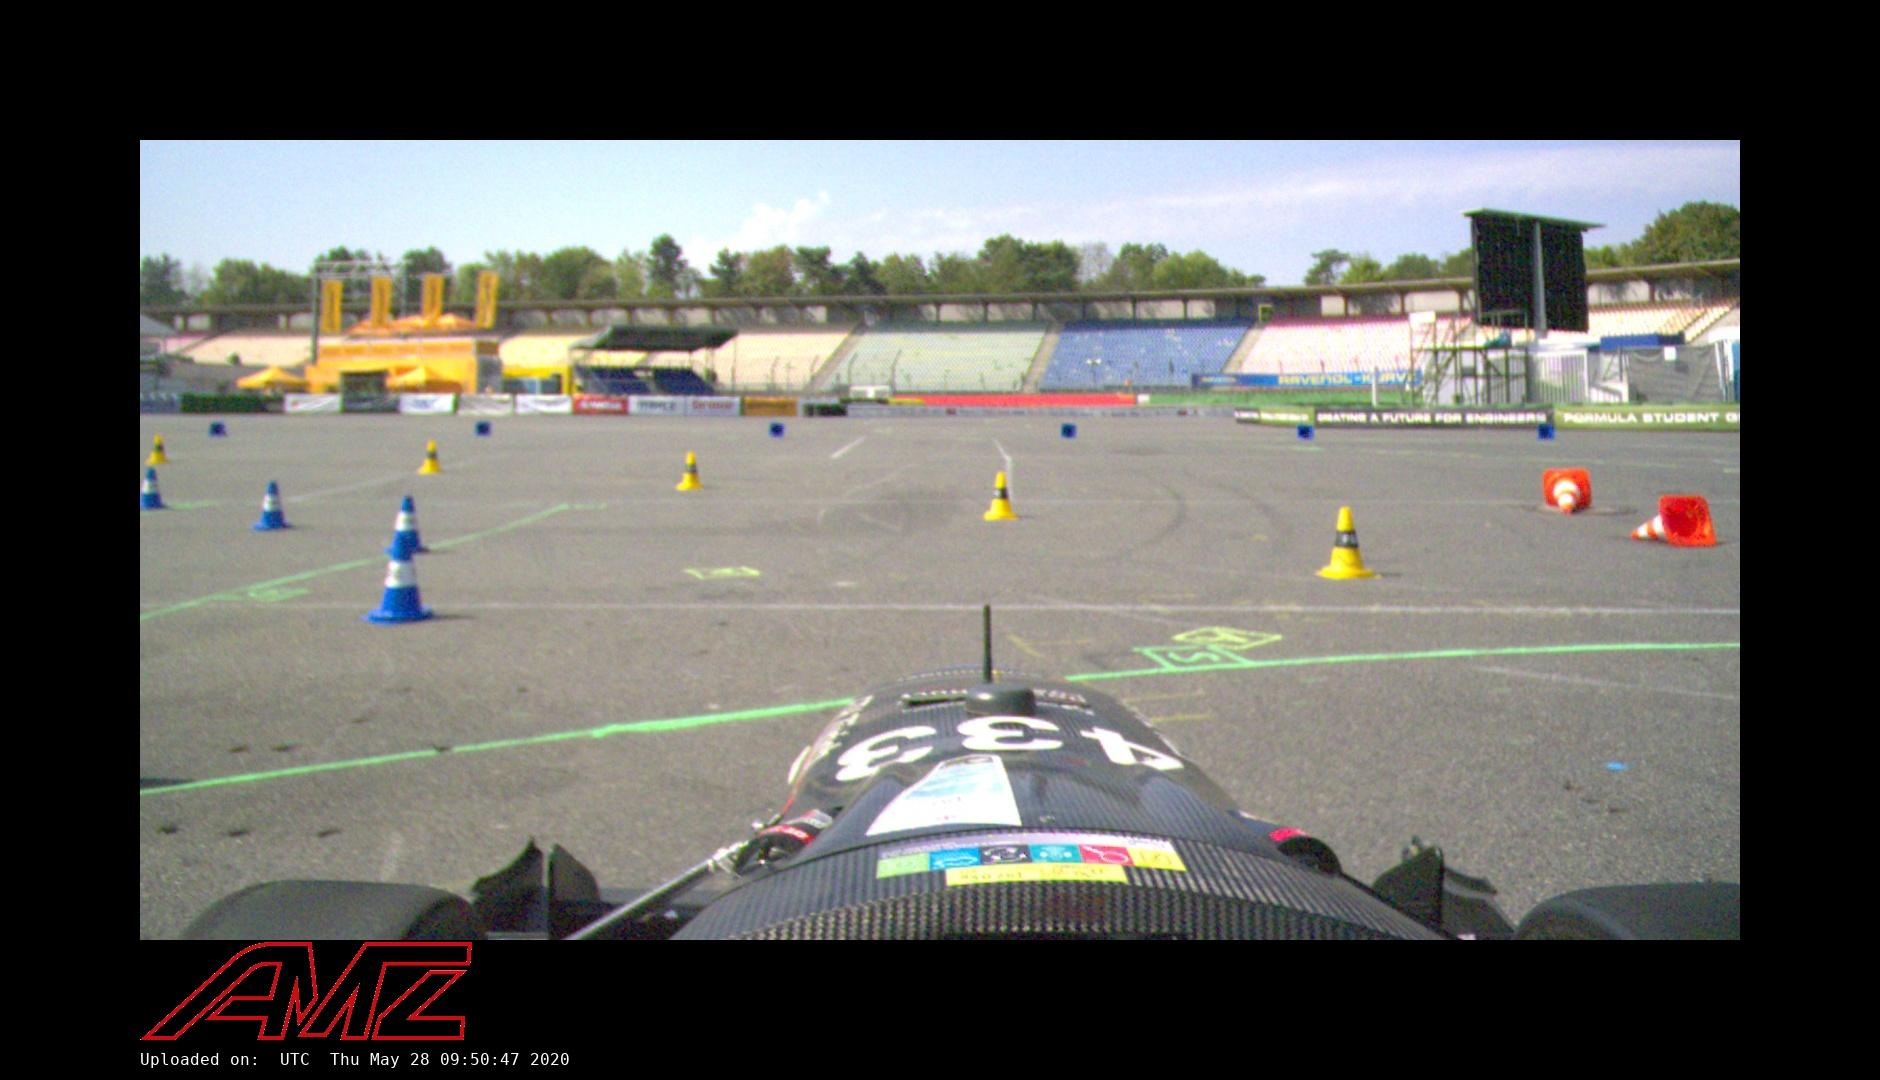blue_cone: (358, 532, 436, 627), (382, 495, 431, 556), (249, 479, 292, 531), (139, 466, 168, 512)
orange_cone: (1630, 493, 1719, 548), (1540, 468, 1595, 517)
yellow_cone: (1314, 506, 1382, 581), (983, 472, 1019, 521), (675, 451, 704, 491), (417, 439, 445, 475), (145, 433, 170, 465)
